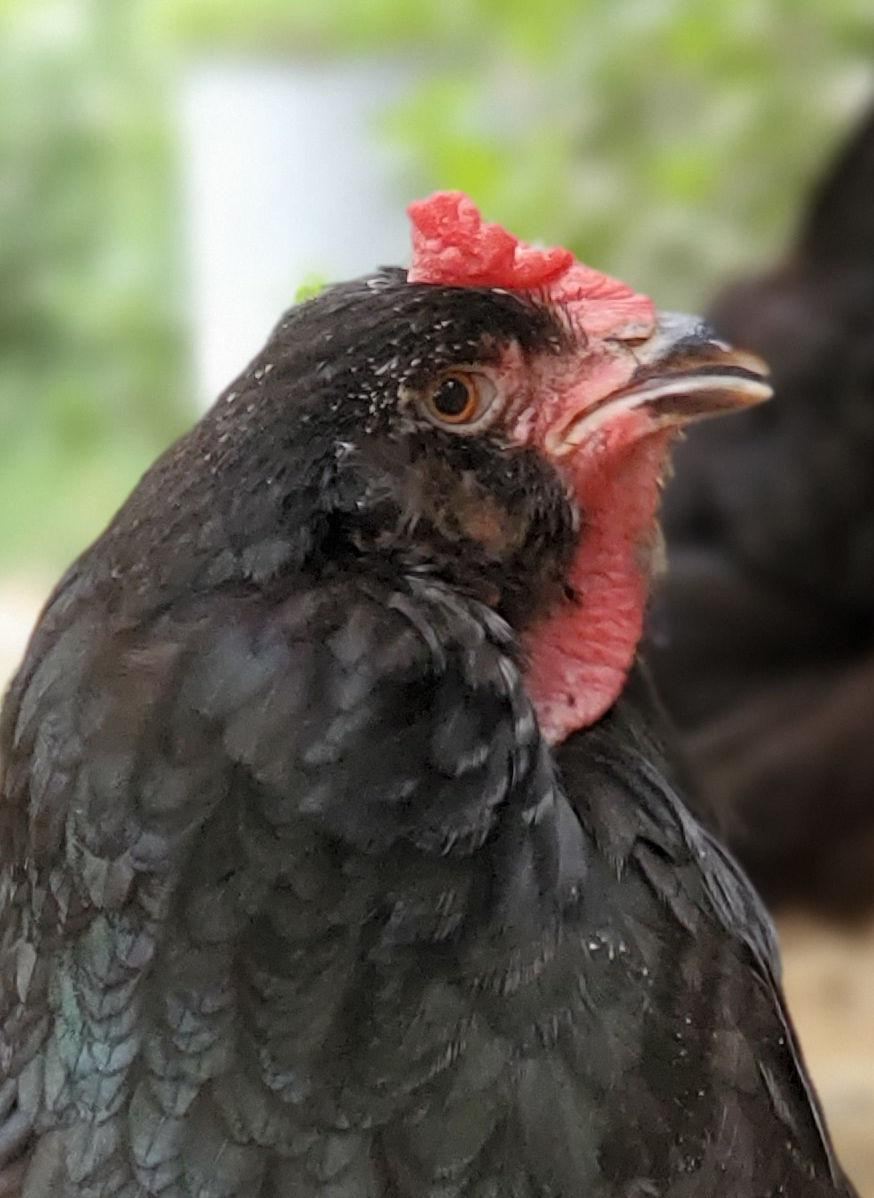AbNormal: (408, 186, 657, 330)
